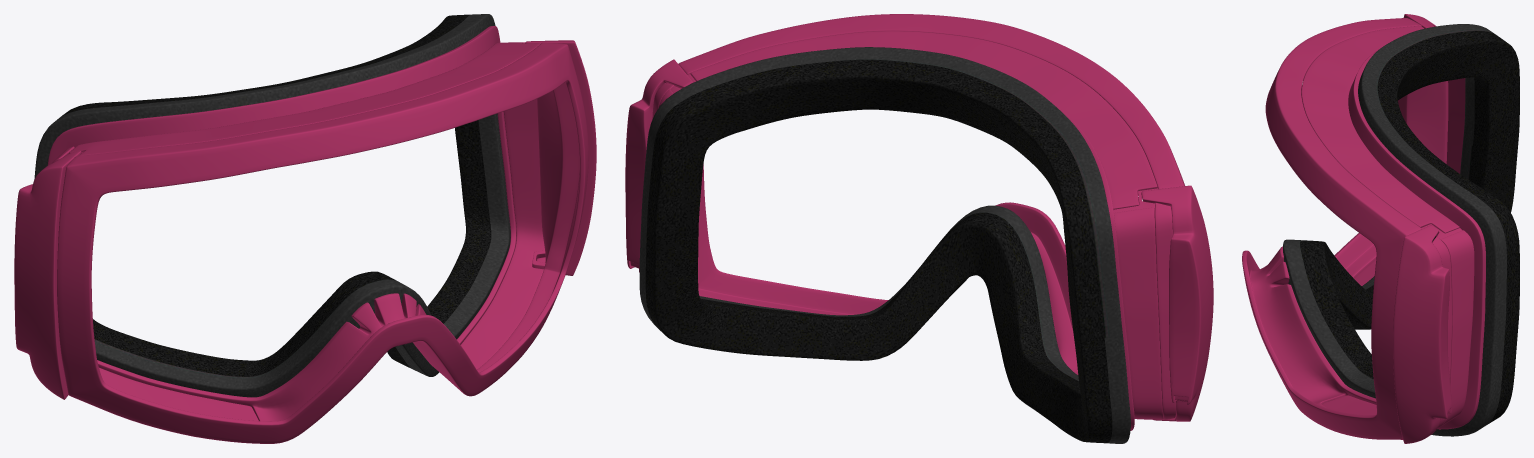
Rendered from FRAME_Styx_MOST027_001.glb.
The picture shows the model from 3 angles, left to right: view 1: azimuth 30°, elevation 25°; view 2: azimuth 150°, elevation 25°; view 3: azimuth 270°, elevation 25°; orthographic projection. The views are drawn at different scales.
Parts seen in each view (by area): view 1: Full_rim_geometry, Frame-Add_Frame-01_geometry_Add_Frame_geometry; view 2: Frame-Add_Frame-01_geometry_Add_Frame_geometry, Full_rim_geometry; view 3: Frame-Add_Frame-01_geometry_Add_Frame_geometry, Full_rim_geometry.
Boxes of the visible parts, x1,y1,x2,y2 form: Full_rim_geometry: [14, 26, 596, 443]; Frame-Add_Frame-01_geometry_Add_Frame_geometry: [34, 14, 544, 420]; Frame-Add_Frame-01_geometry_Add_Frame_geometry: [639, 31, 1163, 443]; Full_rim_geometry: [625, 14, 1213, 430]; Frame-Add_Frame-01_geometry_Add_Frame_geometry: [1283, 24, 1519, 436]; Full_rim_geometry: [1242, 14, 1485, 443].
Bounding box in the file's own units: 0.1754 × 0.0942 × 0.0831.
Materials: 1 (1 with a texture image).
